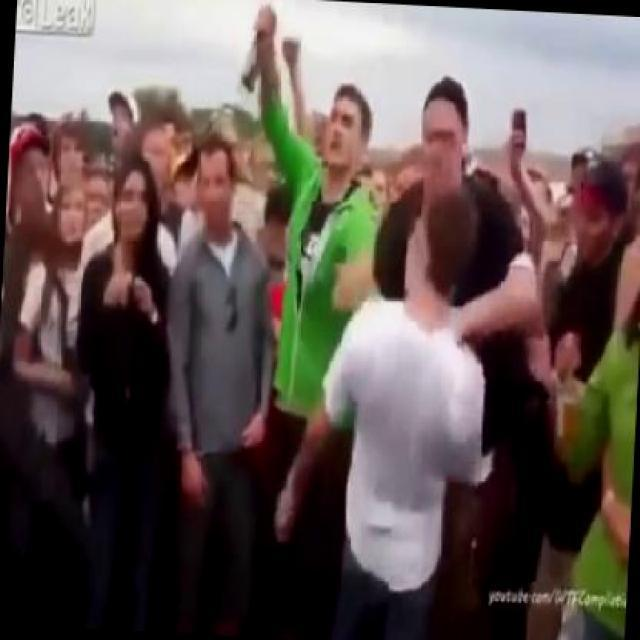fight: (326, 71, 546, 574)
